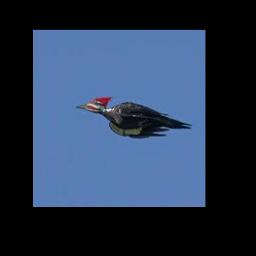Woodpecker: (75, 96, 193, 138)
